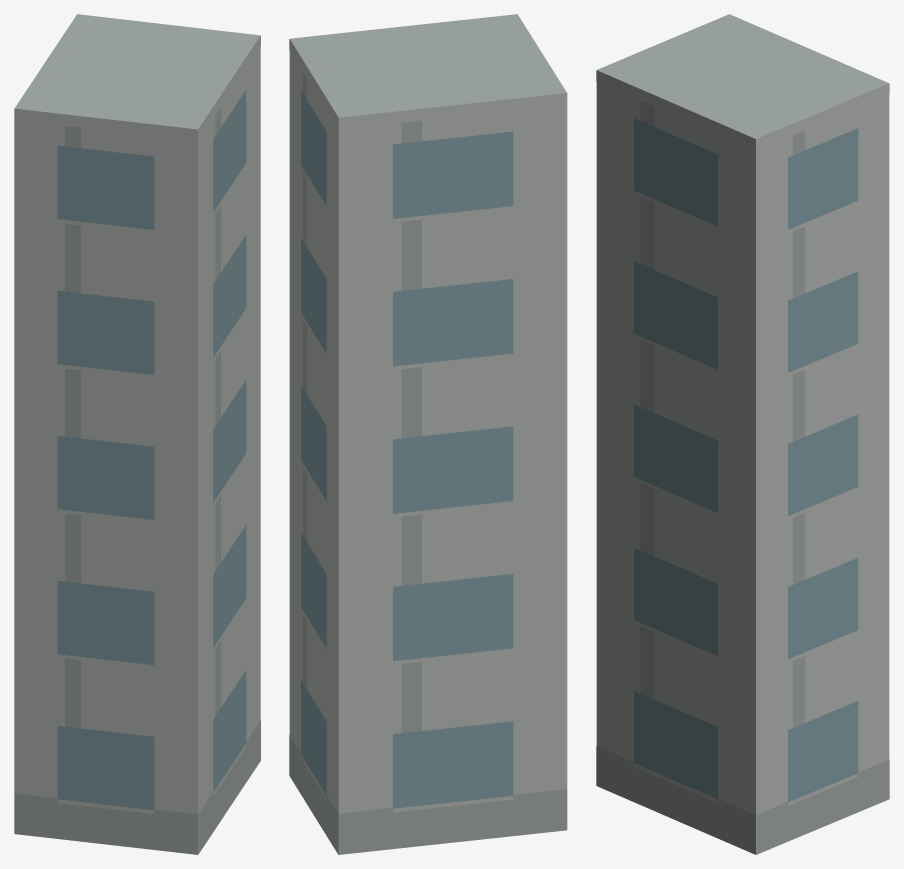
Rendered from survey-upis-32783503.glb.
The picture shows the model from 3 angles, left to right: view 1: azimuth 30°, elevation 25°; view 2: azimuth 150°, elevation 25°; view 3: azimuth 270°, elevation 25°; orthographic projection. The views are drawn at different scales.
Visible parts, largest first — view 1: survey-upis-32783503.tmp; view 2: survey-upis-32783503.tmp; view 3: survey-upis-32783503.tmp.
Boxes of the visible parts, left/top/right/bottom form: survey-upis-32783503.tmp: left=14, top=14, right=260, bottom=854; survey-upis-32783503.tmp: left=289, top=14, right=567, bottom=854; survey-upis-32783503.tmp: left=596, top=14, right=889, bottom=854.
Bounding box in the file's own units: 5.72 × 15.25 × 5.67.
